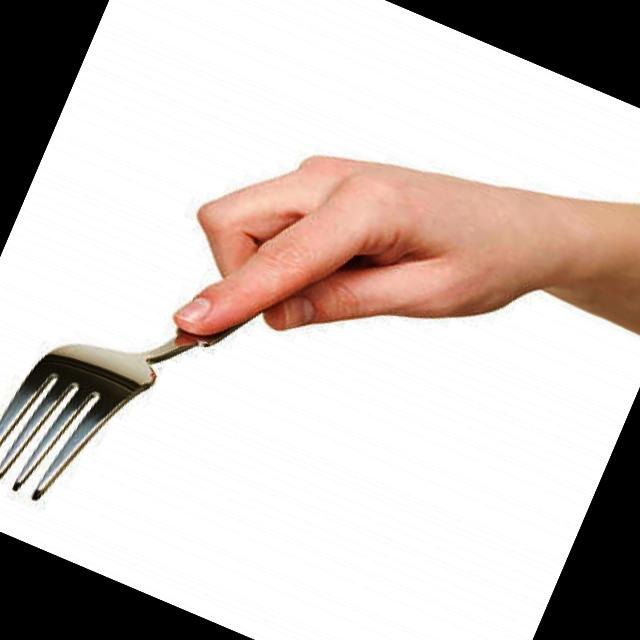fork: (0, 97, 373, 577)
